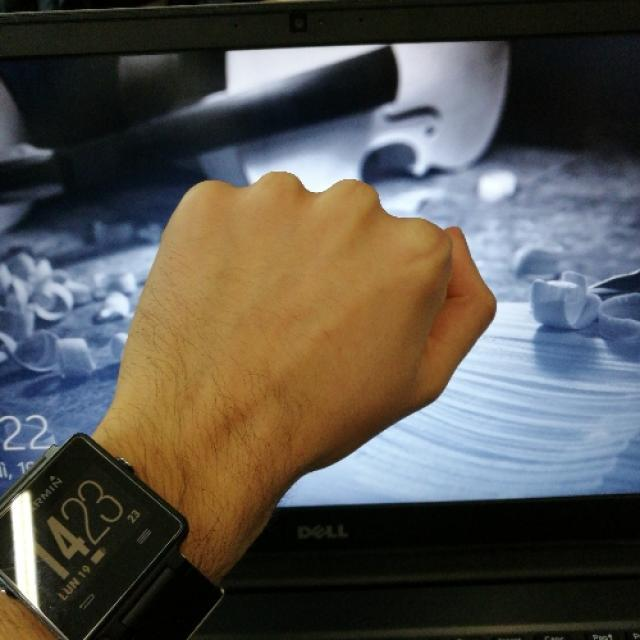rock: (123, 172, 494, 476)
